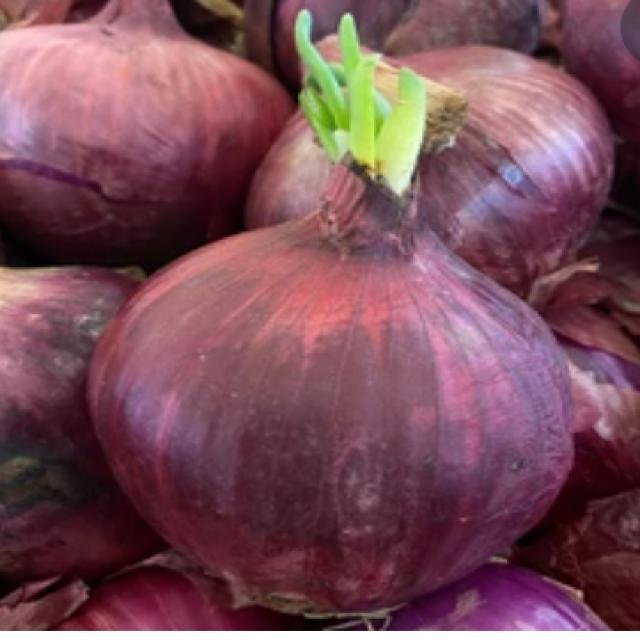sprouting: (288, 12, 434, 199)
